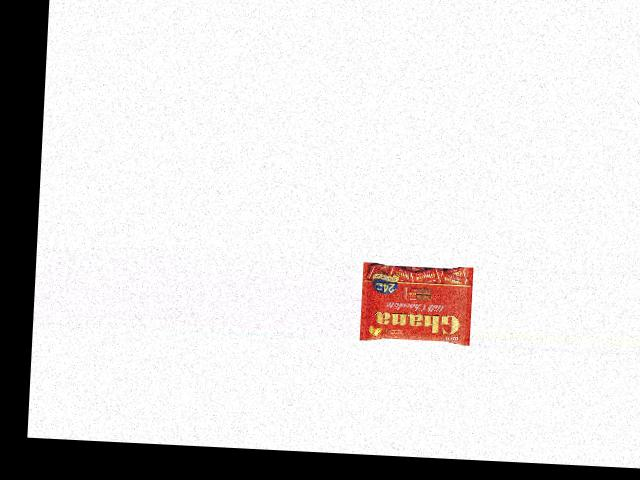chocolate: (358, 259, 471, 343)
